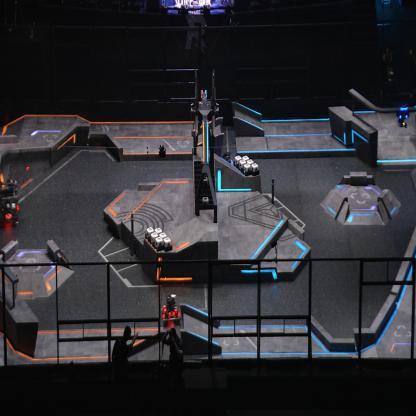car: (0, 178, 21, 226), (161, 292, 182, 328), (217, 151, 234, 176)
